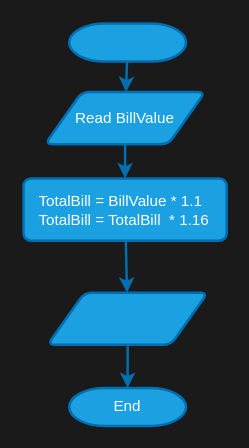
Image size: 249x448. Some labels were removed from this diagram. Here are the shapes that lost their labels. From the top down, the centre of each, then its label:
[127,42]: Start
[127,318]: Print TotalBill
